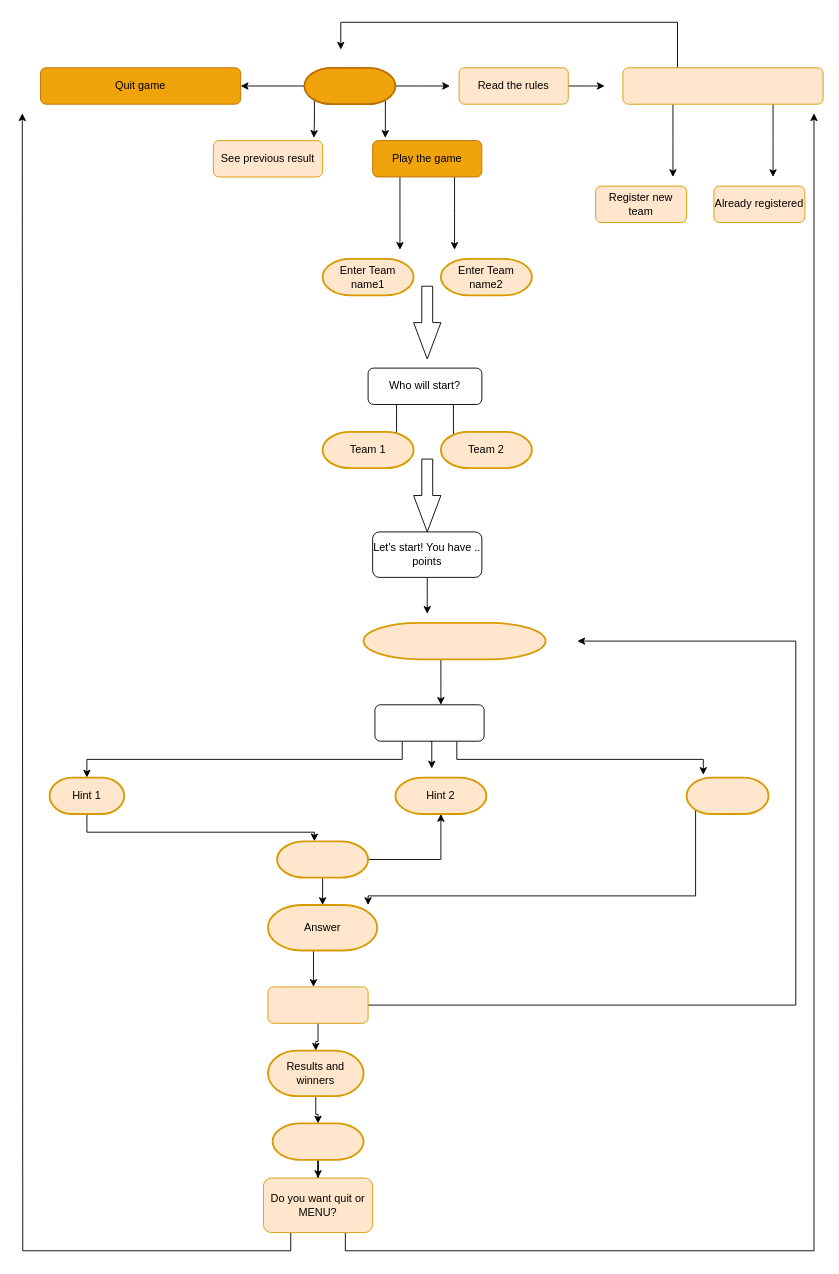
This 839x1274 diagram has some shape labels left out. Each missing label, with the centre of its shape:
"1. Question" goes at point (454, 641).
"Do you want 2nd hint or answer?" goes at point (322, 859).
"Do you want to answer?" goes at point (429, 722).
"Main MENU" goes at point (722, 85).
"No hint" goes at point (727, 795).
"Points accumulated" goes at point (317, 1004).
"Results" goes at point (317, 1141).
"Start" goes at point (349, 85).
